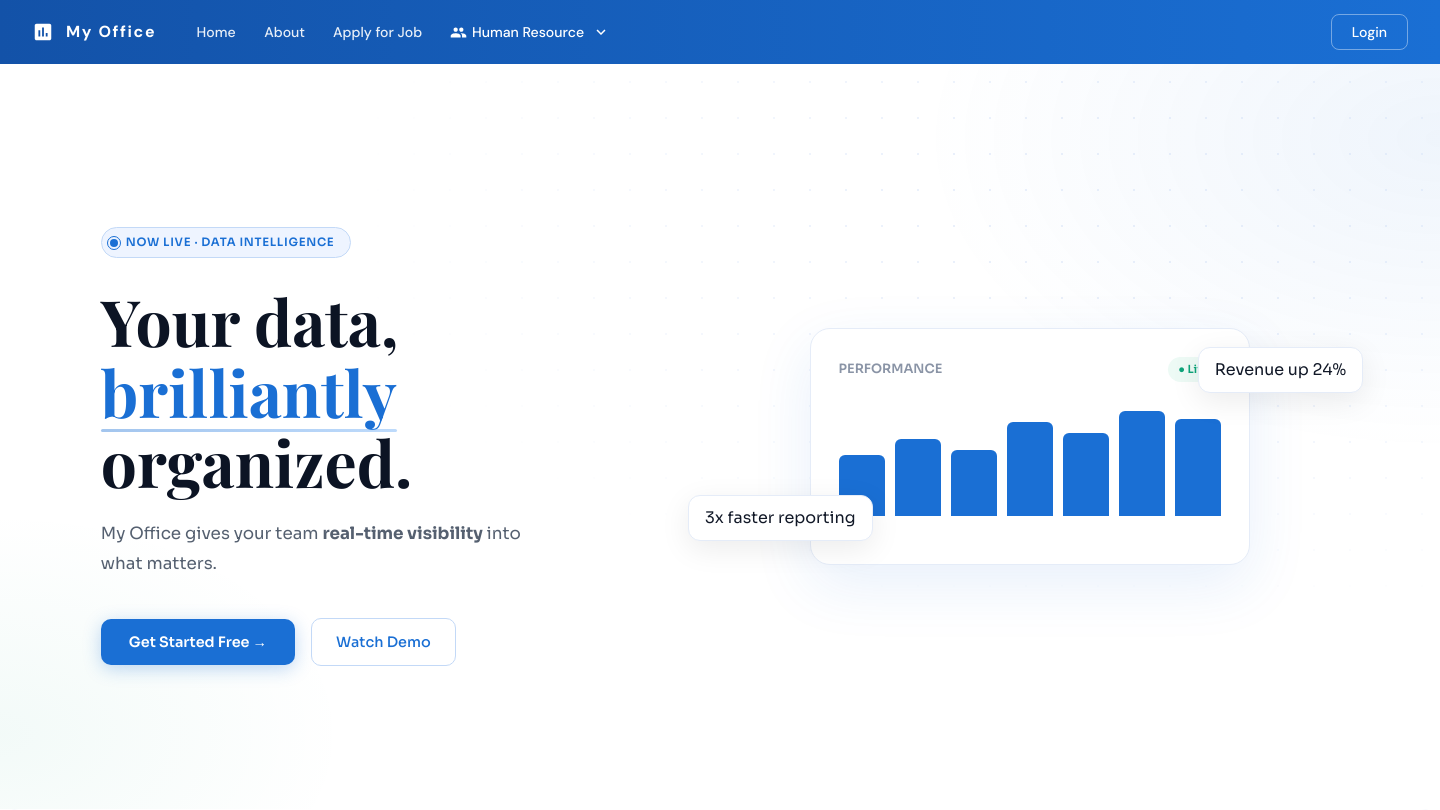
App Component › navigates to the Job Application page
Find and click the 'Apply for Job' link in the header
Click the link "Apply for Job" at (378, 32), box [333,23,422,41]
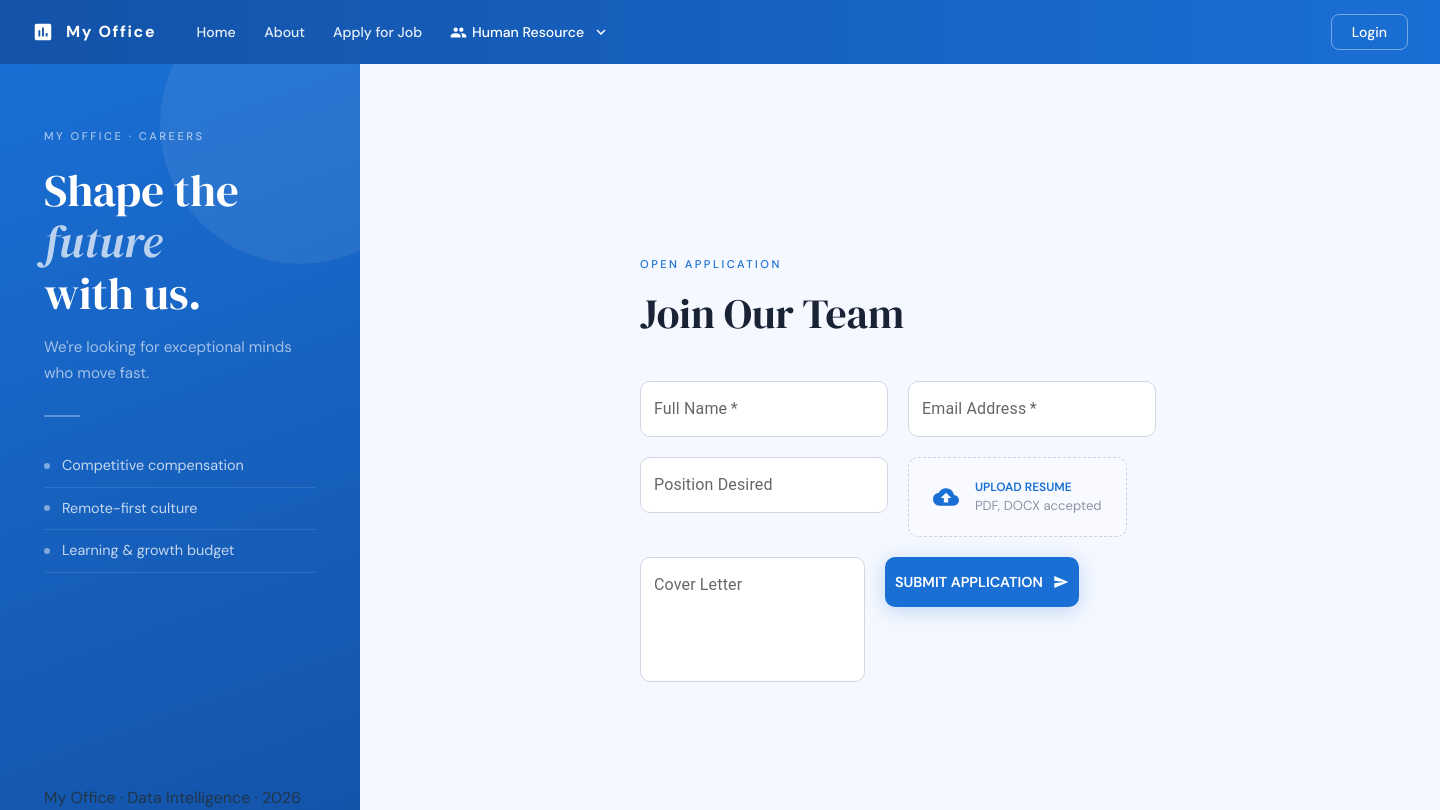
Expected: the text "Join Our Team" is shown, [640,285,904,342]
